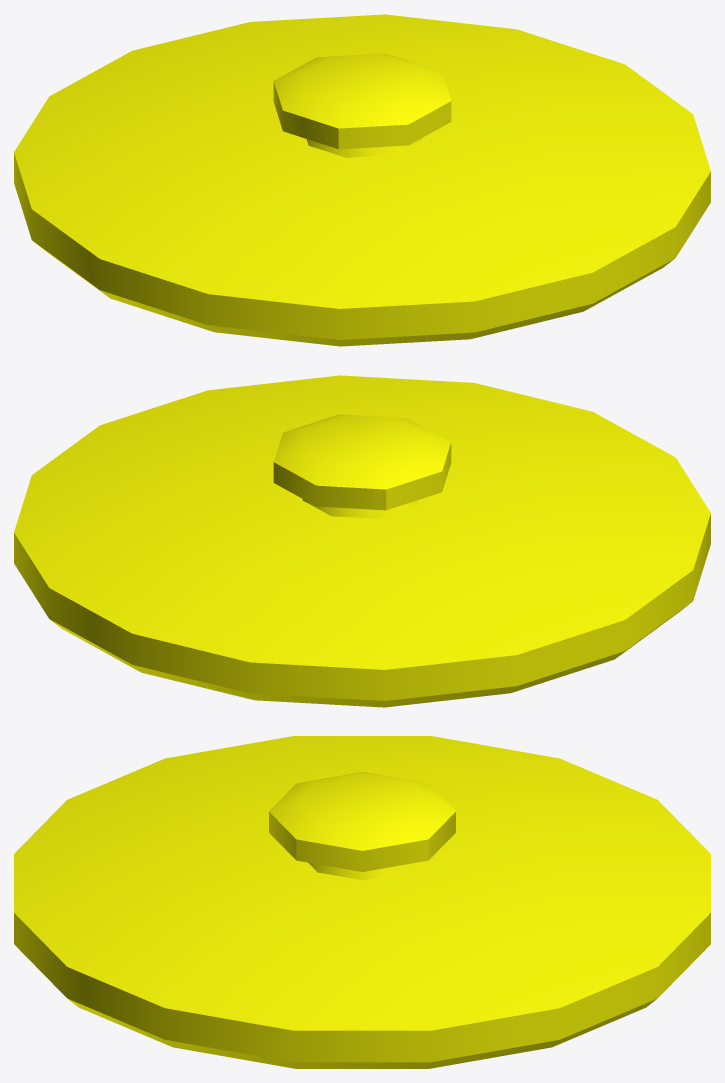
File: lid_A.gltf
3 renders of one model, top to bottom at view 1: azimuth 30°, elevation 25°; view 2: azimuth 150°, elevation 25°; view 3: azimuth 270°, elevation 25°, orthographic.
Visible parts, largest first — view 1: lid_A; view 2: lid_A; view 3: lid_A.
Part boxes in pixels (x1,y1,x2,y2): lid_A: (14, 14, 710, 346); lid_A: (14, 375, 710, 707); lid_A: (14, 736, 710, 1068).
Bounding box in the file's own units: 1 × 0.2004 × 1.
1 material, 1 textured.
